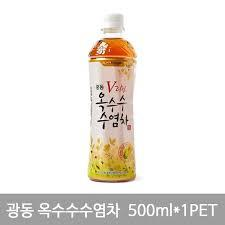oksususuyeomcha: (87, 13, 137, 184)
